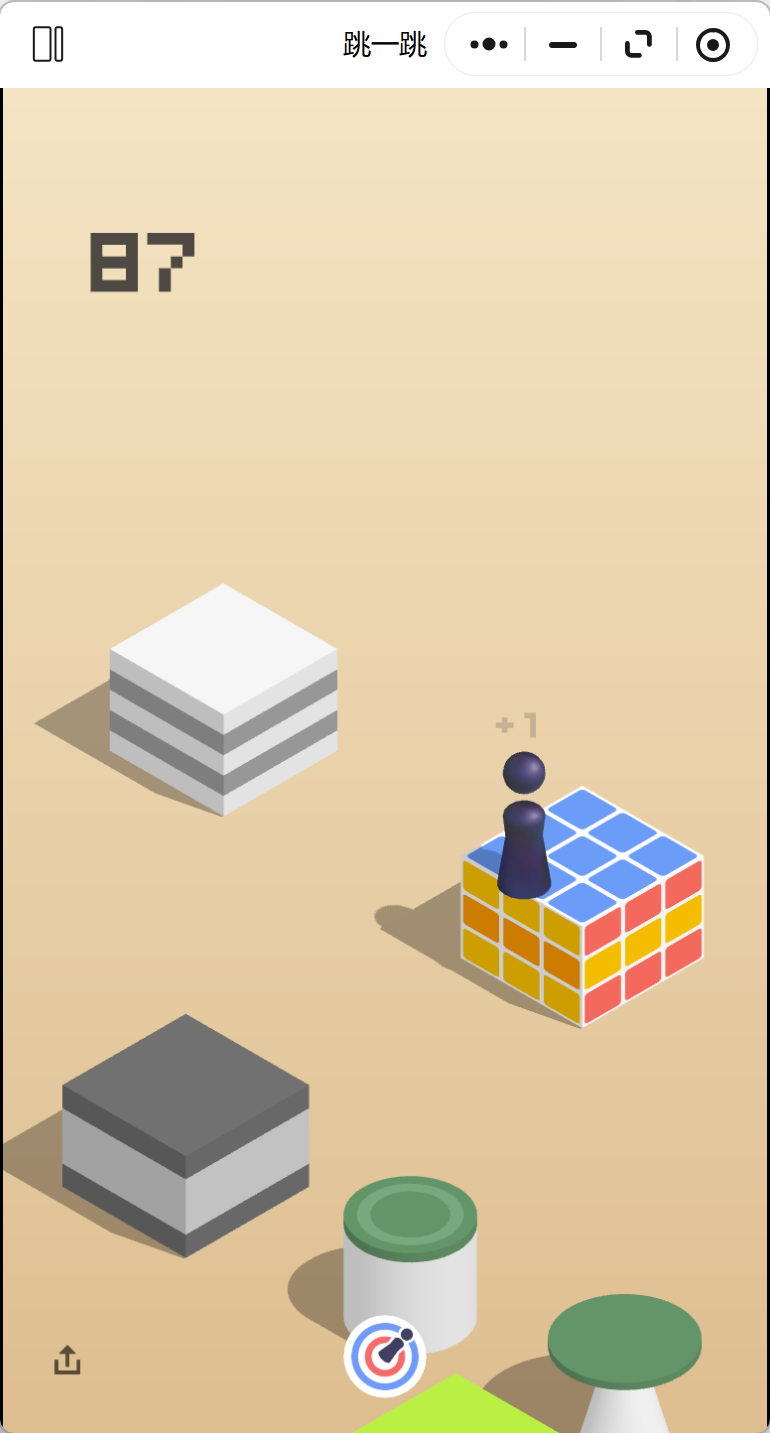piece: (494, 754, 553, 907)
platform: (111, 581, 339, 827)
